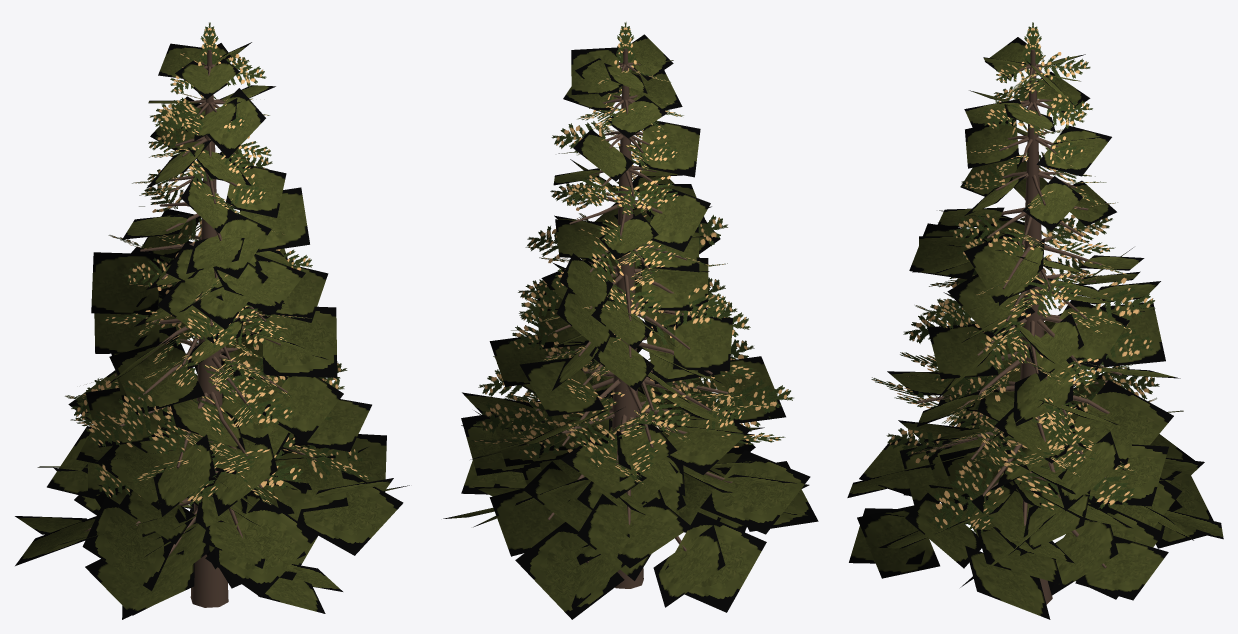
The model's file is snow_pine_1_burnt1.glb.
3 renders of one model, left to right at view 1: azimuth 30°, elevation 25°; view 2: azimuth 150°, elevation 25°; view 3: azimuth 270°, elevation 25°, orthographic. The views are drawn at different scales.
Parts seen in each view (by area): view 1: snow_pine_1_burnt1; view 2: snow_pine_1_burnt1; view 3: snow_pine_1_burnt1.
Boxes of the visible parts, box(x1,y1,x2,y2) form: snow_pine_1_burnt1: box(15, 22, 409, 619); snow_pine_1_burnt1: box(443, 22, 818, 619); snow_pine_1_burnt1: box(847, 22, 1223, 619).
Bounding box in the file's own units: 6.33 × 10.43 × 6.16.
3 materials, 2 textured.
